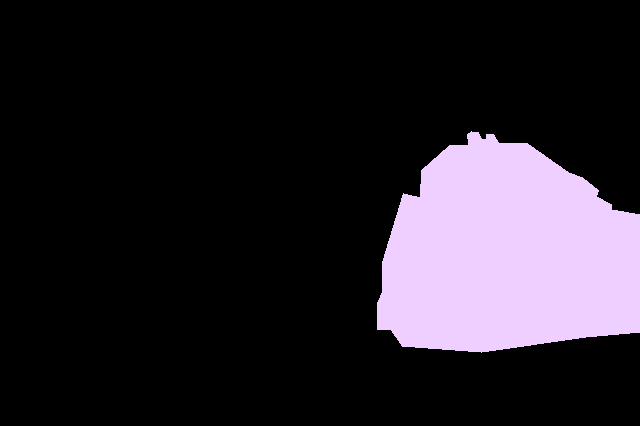Train: (377, 131, 640, 352)
